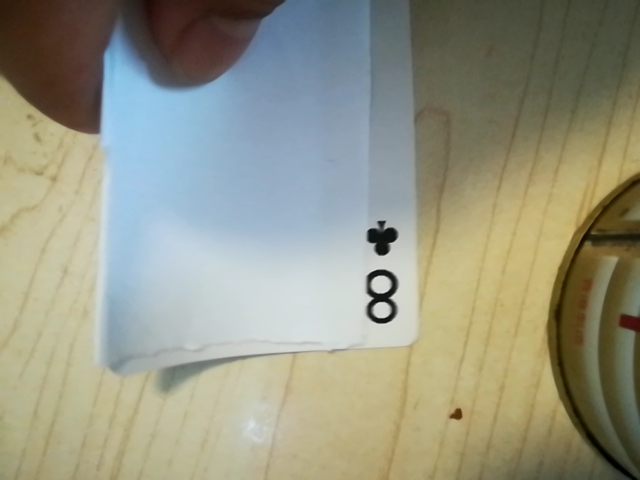mh 8: (348, 209, 415, 334)
